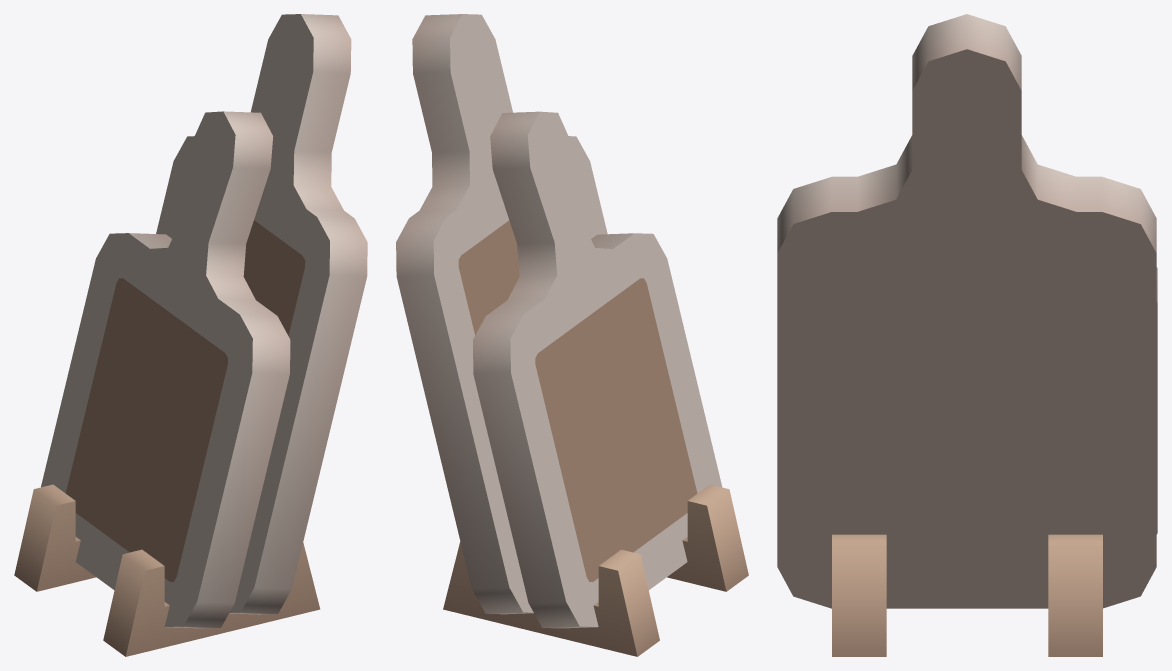
The model's file is cutting-boards-standing.glb.
The picture shows the model from 3 angles, left to right: view 1: azimuth 30°, elevation 25°; view 2: azimuth 150°, elevation 25°; view 3: azimuth 270°, elevation 25°; orthographic projection. The views are drawn at different scales.
Visible parts, largest first — view 1: cutting-boards-standing; view 2: cutting-boards-standing; view 3: cutting-boards-standing.
Boxes of the visible parts, bbox=[...] form: cutting-boards-standing: bbox=[14, 14, 367, 656]; cutting-boards-standing: bbox=[396, 14, 748, 656]; cutting-boards-standing: bbox=[777, 14, 1157, 656].
Bounding box in the file's own units: 0.2411 × 0.469 × 0.2434.
